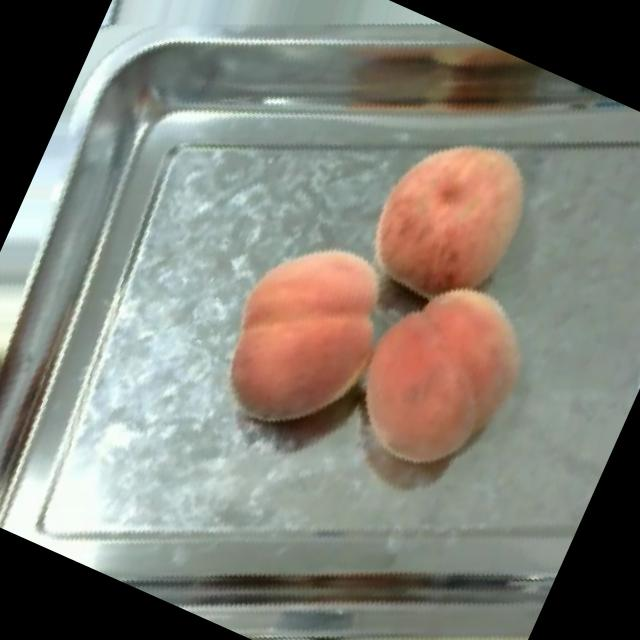Fruit: (308, 233, 582, 525), (324, 87, 582, 357), (182, 201, 430, 472), (301, 524, 543, 640)
